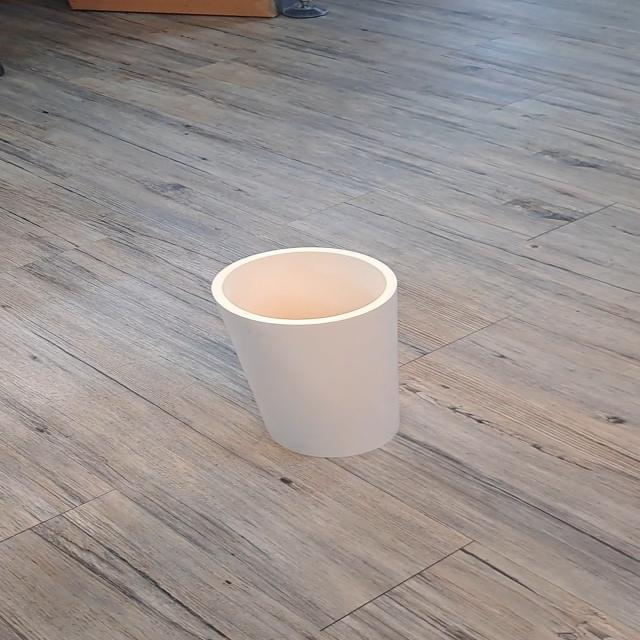CORAL: (161, 225, 485, 488)
